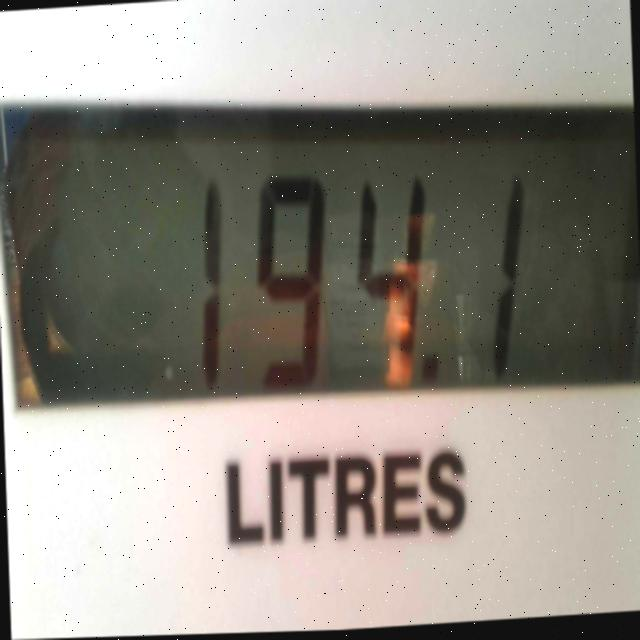.: (414, 336, 454, 397)
1: (172, 162, 250, 401), (468, 171, 540, 387)
4: (344, 162, 432, 391)
9: (248, 162, 336, 402)
